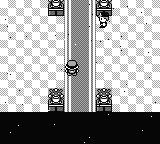leer: (96, 89, 112, 111), (48, 89, 64, 111), (96, 0, 111, 16), (48, 0, 63, 16)
main: (65, 61, 79, 75)
no-caminable: (0, 112, 159, 143)
npc: (97, 13, 110, 27)
